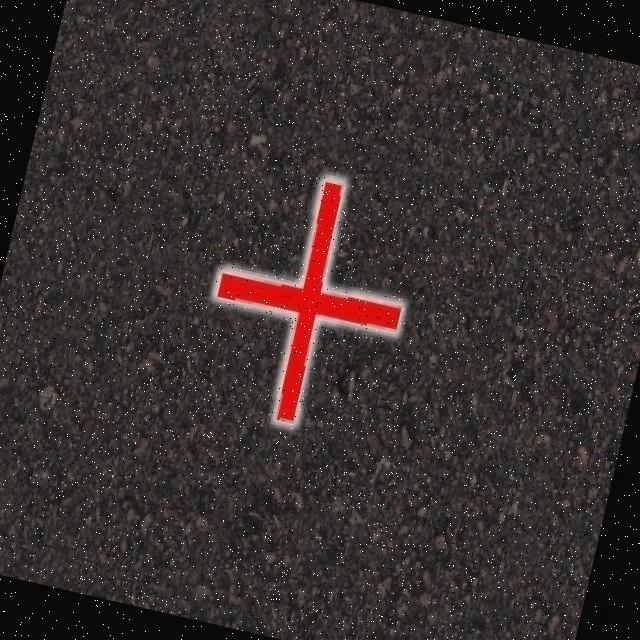x_marker: (190, 158, 425, 440)
